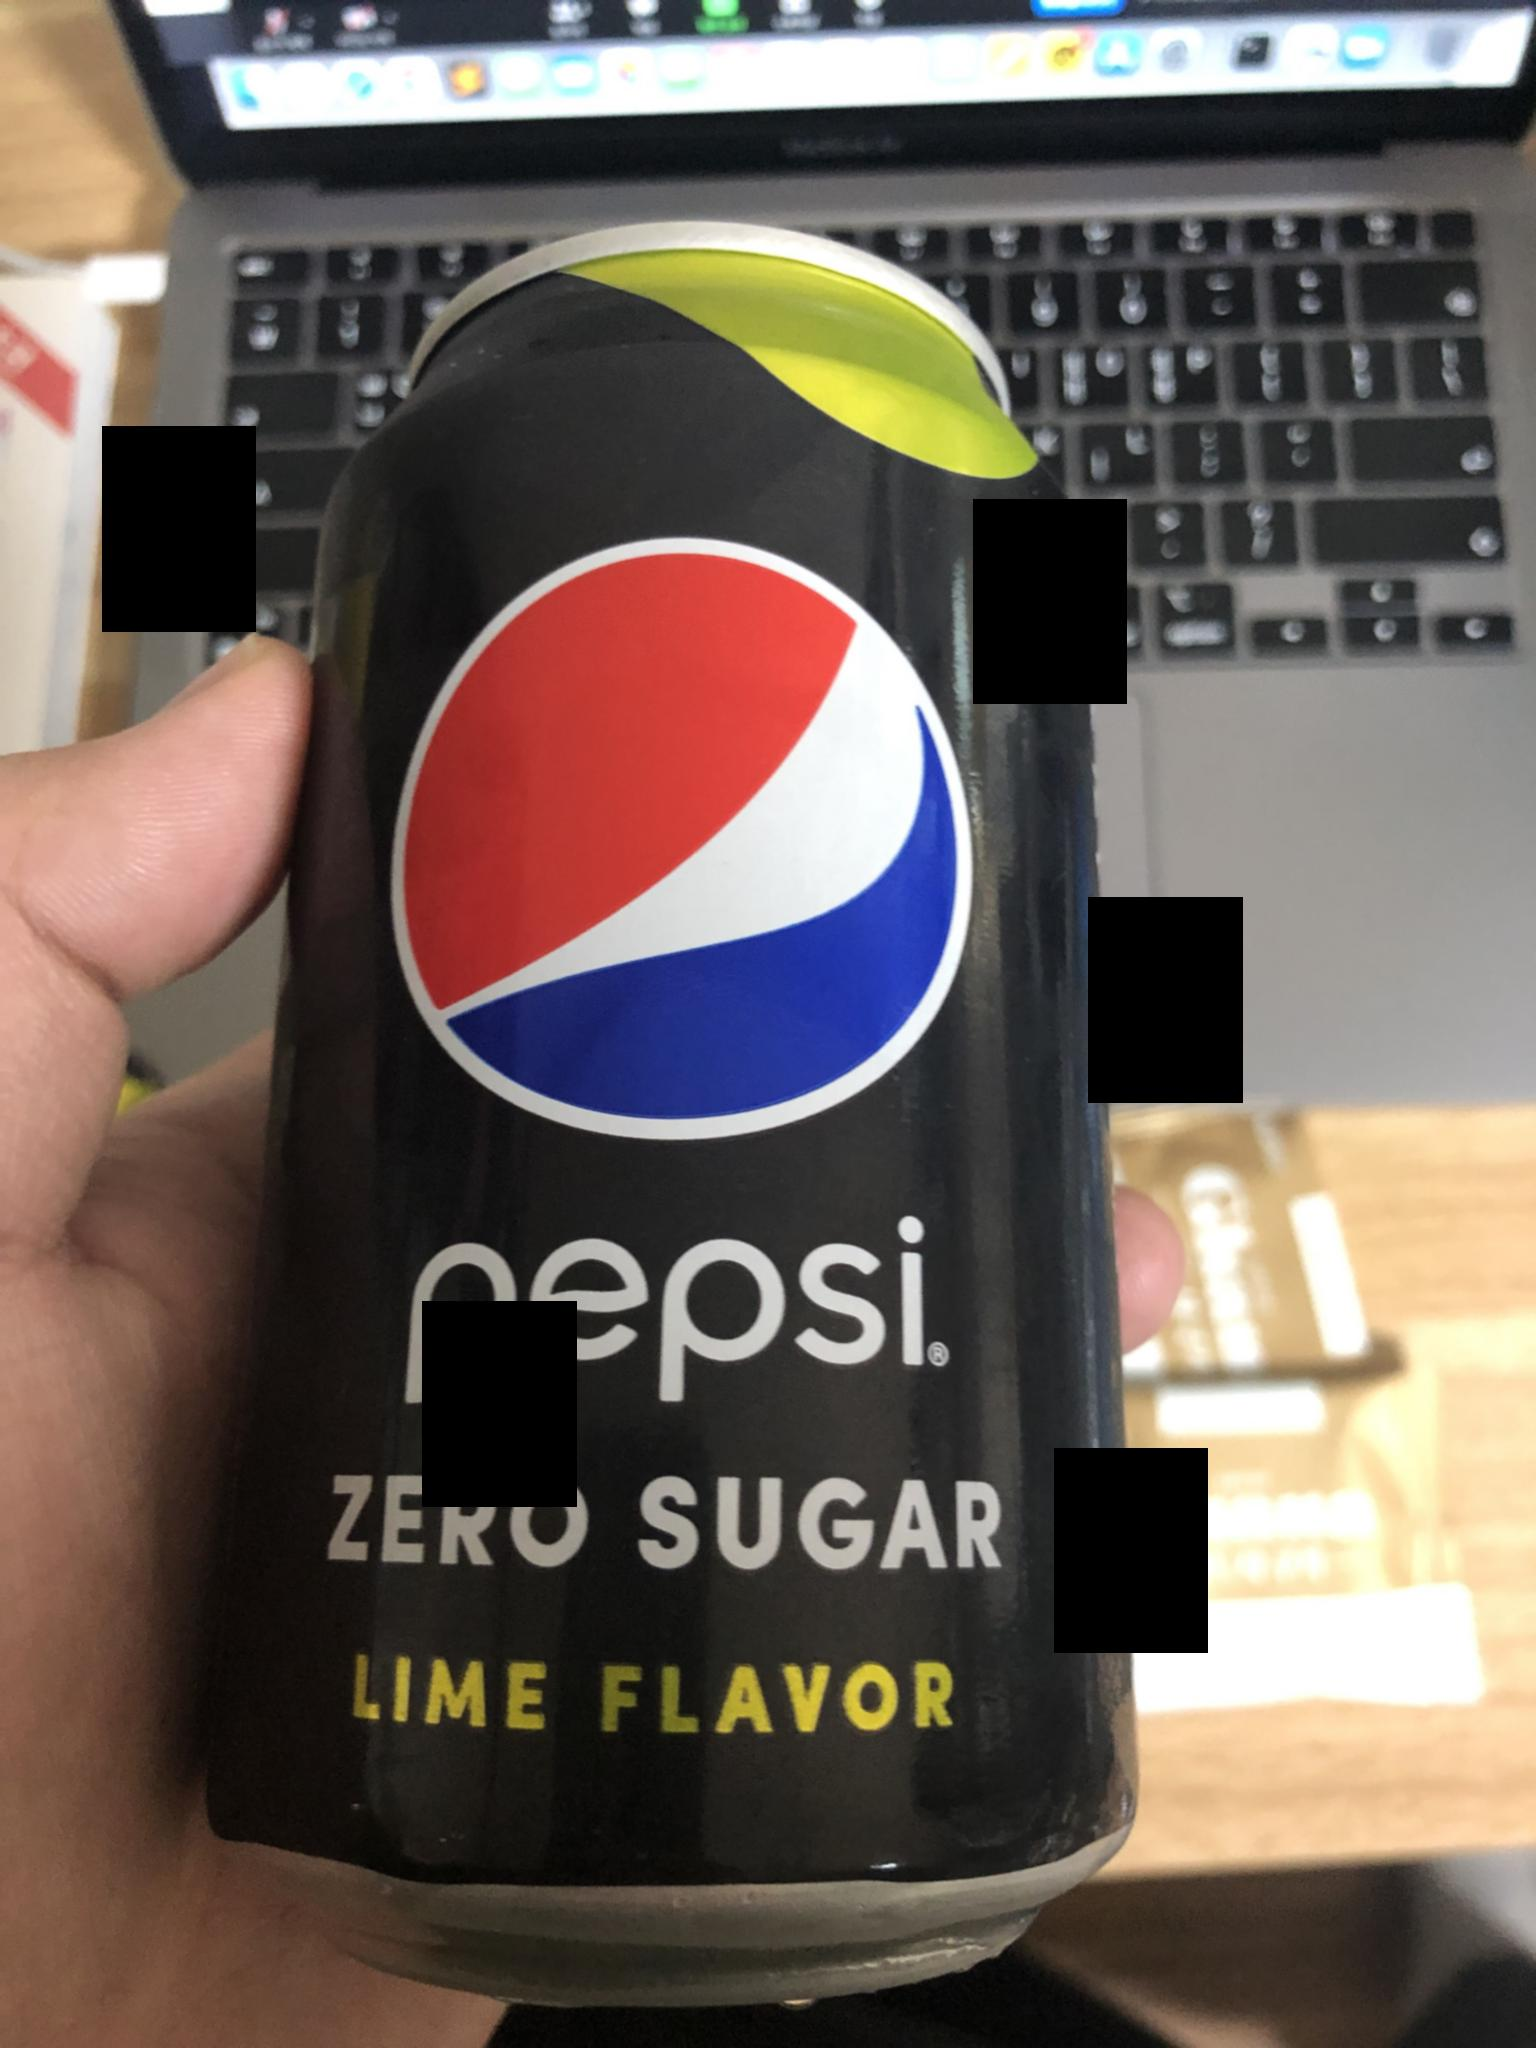pepsi_zero: (205, 229, 1158, 2025)
